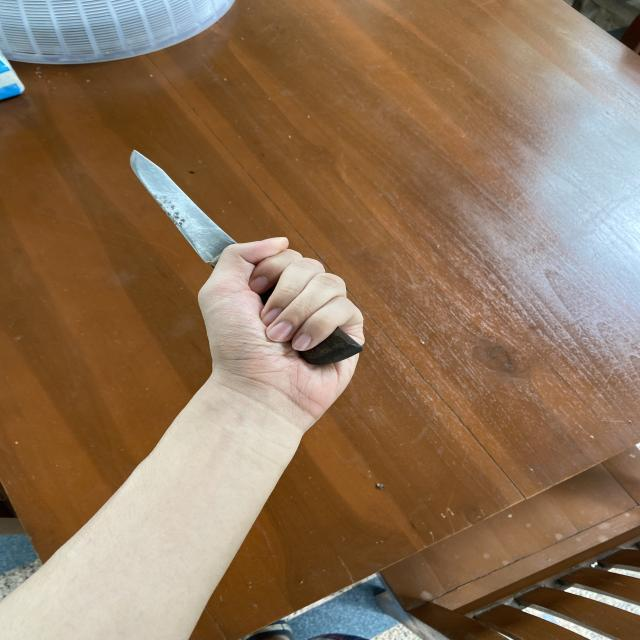faca: (94, 139, 370, 398)
